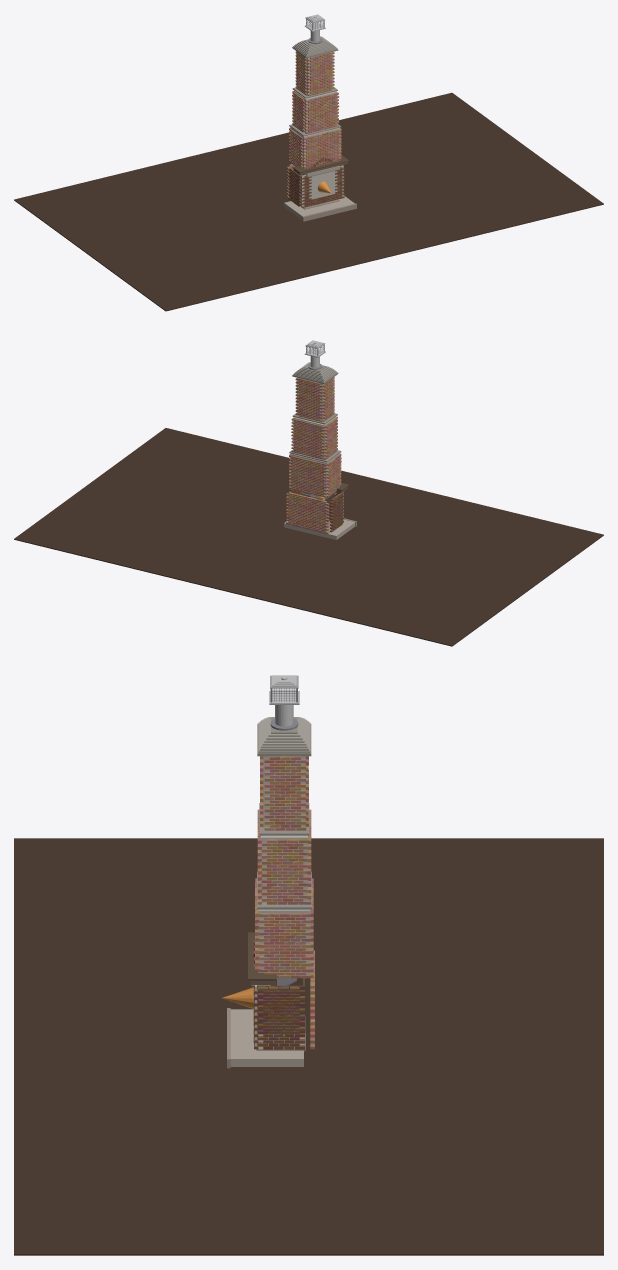
File: fireplace.glb
The picture shows the model from 3 angles, top to bottom: view 1: azimuth 30°, elevation 25°; view 2: azimuth 150°, elevation 25°; view 3: azimuth 270°, elevation 25°; orthographic projection. The views are drawn at different scales.
Visible parts, largest first — view 1: world; view 2: world; view 3: world.
Part boxes in pixels (x1,y1,x2,y2): world: (14,14,603,311); world: (14,340,603,646); world: (14,675,603,1255).
Bounding box in the file's own units: 20 × 8.31 × 12.
